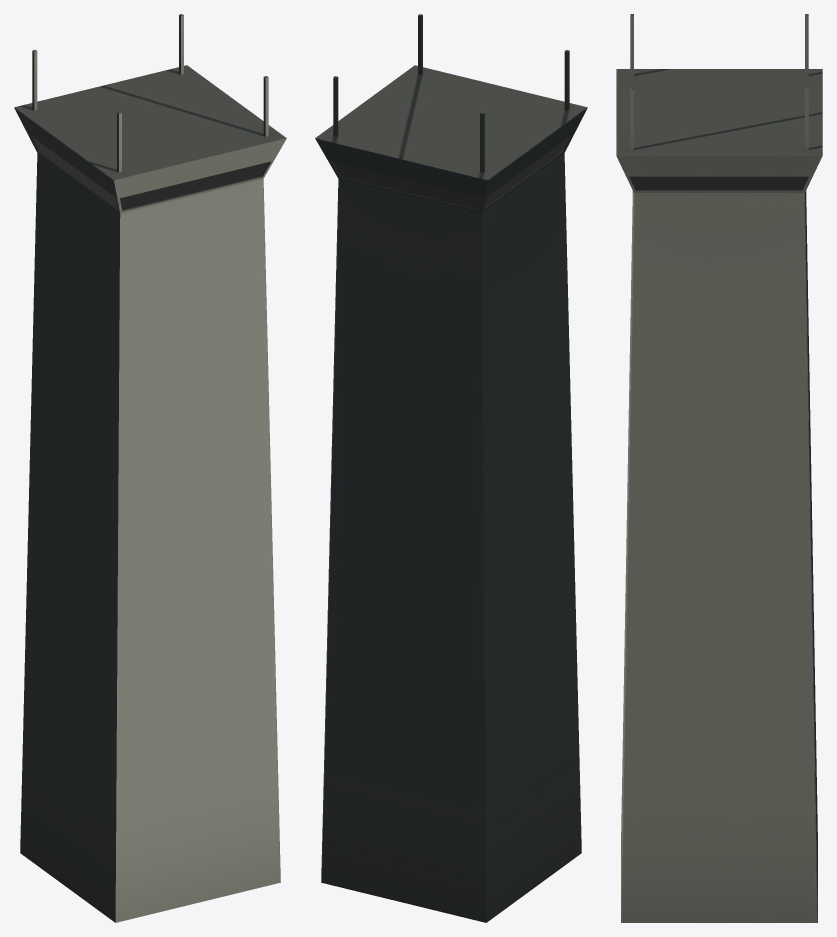
The model's file is tower.gltf.
3 views of the same model, side by side, from view 1: azimuth 30°, elevation 25°; view 2: azimuth 150°, elevation 25°; view 3: azimuth 270°, elevation 25° (orthographic). The views are drawn at different scales.
Parts seen in each view (by area): view 1: tower_obj, tower_glass_obj; view 2: tower_obj, tower_glass_obj; view 3: tower_obj, tower_glass_obj.
Boxes of the visible parts, box(x1,y1,x2,y2) form: tower_obj: box(14, 14, 286, 922); tower_glass_obj: box(33, 137, 268, 209); tower_obj: box(315, 14, 587, 922); tower_glass_obj: box(333, 137, 568, 209); tower_obj: box(616, 14, 822, 922); tower_glass_obj: box(630, 176, 808, 189).
Bounding box in the file's own units: 16.26 × 72.19 × 16.26.
2 materials, 1 textured.
